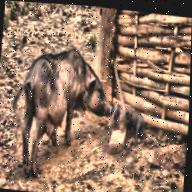boar: (3, 29, 118, 181)
